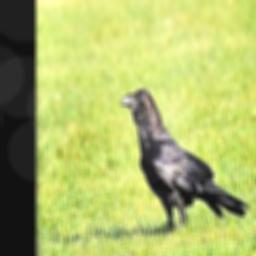Crow: (116, 84, 249, 235)
